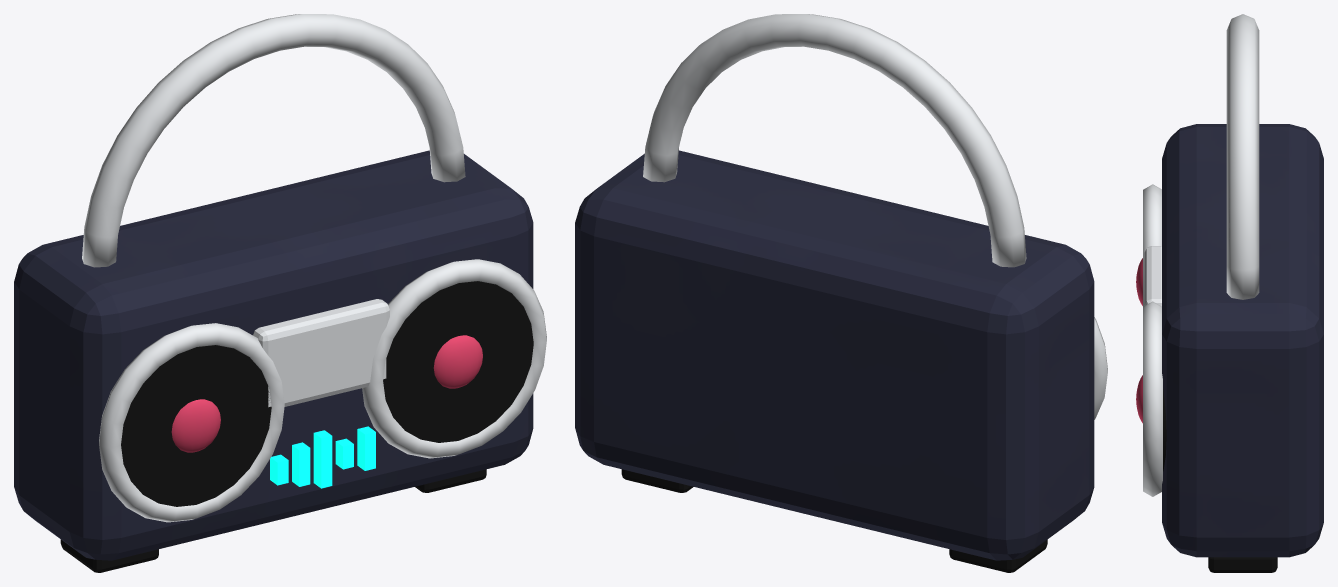
The model's file is prop_boombox.glb.
3 views of the same model, side by side, from view 1: azimuth 30°, elevation 25°; view 2: azimuth 150°, elevation 25°; view 3: azimuth 270°, elevation 25° (orthographic). The views are drawn at different scales.
Visible parts, largest first — view 1: prop_boombox; view 2: prop_boombox; view 3: prop_boombox.
Part boxes in pixels (x1=…): prop_boombox: x1=14, y1=14, x2=546, y2=572; prop_boombox: x1=575, y1=14, x2=1107, y2=572; prop_boombox: x1=1136, y1=14, x2=1323, y2=572.
Size of the model in its own units: 0.42 by 0.434 by 0.1625.
Materials: 6 (3 with a texture image).
